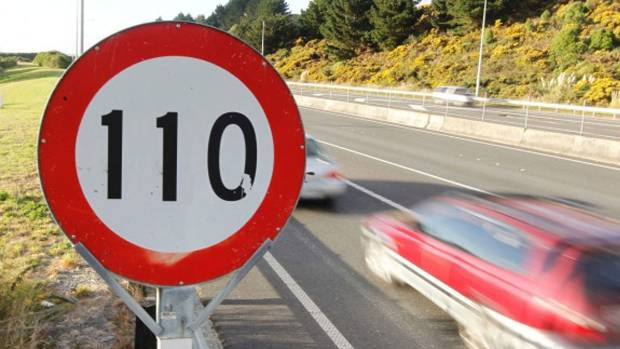Speed_limit_110km: (37, 21, 307, 287)
